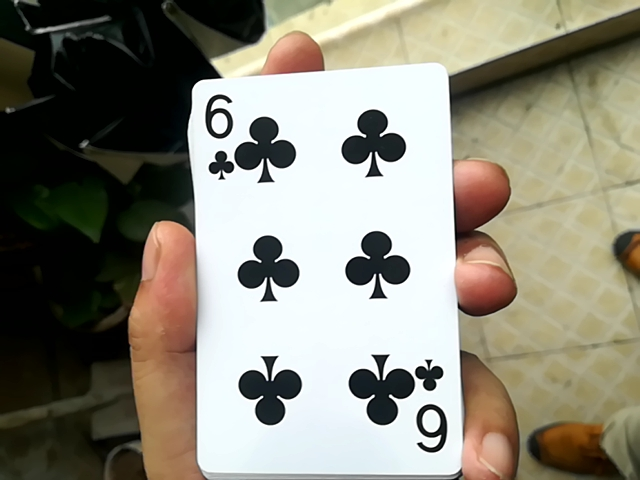mh 6: (173, 57, 465, 474)
